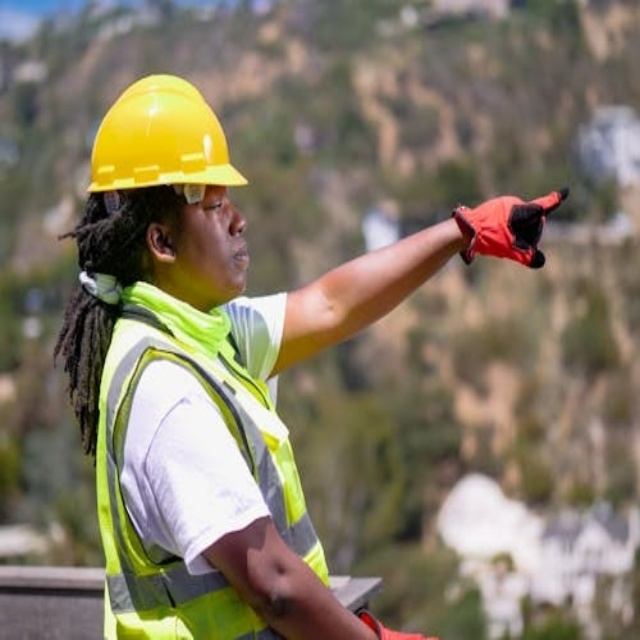Guantes: (450, 187, 570, 271), (356, 609, 443, 640)
Sin_gafas: (180, 188, 232, 229)
Sin_mascara: (206, 239, 252, 285)
